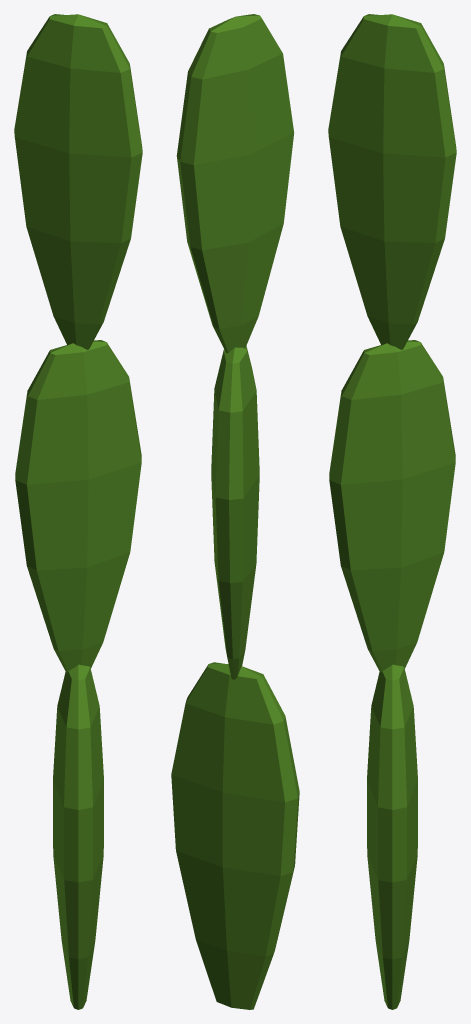
File: Cactus_29_A.fbx
3 views of the same model, side by side, from view 1: azimuth 90°, elevation 25°; view 2: azimuth 150°, elevation 25°; view 3: azimuth 270°, elevation 25° (orthographic).
Visible parts, largest first — view 1: Cactus_29_A; view 2: Cactus_29_A; view 3: Cactus_29_A.
Part boxes in pixels (x1,y1,x2,y2): Cactus_29_A: (14,14,142,1009); Cactus_29_A: (171,14,299,1009); Cactus_29_A: (328,14,456,1009).
Bounding box in the file's own units: 39.21 × 297 × 34.95.
